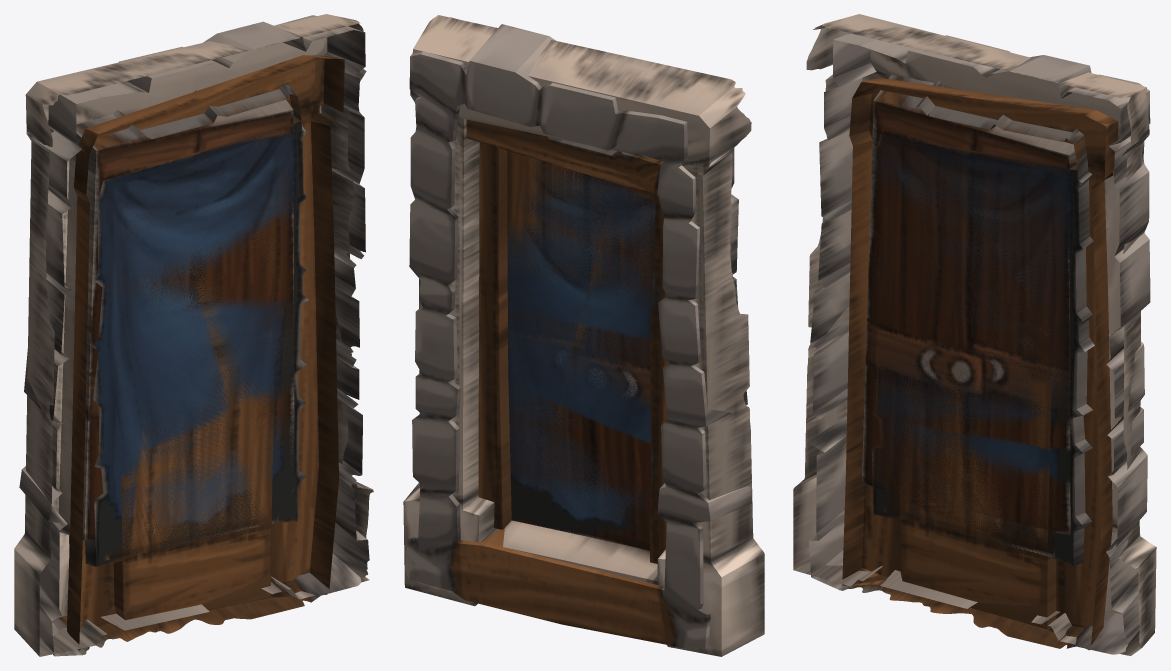
Rendered from Door2.fbx.
3 views of the same model, side by side, from view 1: azimuth 30°, elevation 25°; view 2: azimuth 150°, elevation 25°; view 3: azimuth 330°, elevation 25° (orthographic).
Parts seen in each view (by area): view 1: Door_2, Door_1, Door_Main; view 2: Door_2, Door_Main, Door_1; view 3: Door_Main, Door_2, Door_1.
Boxes of the visible parts, box(x1,y1,x2,y2) form: Door_2: box(19, 15, 369, 656); Door_1: box(67, 55, 344, 650); Door_Main: box(14, 14, 373, 656); Door_2: box(405, 17, 752, 648); Door_Main: box(403, 15, 764, 656); Door_1: box(478, 142, 668, 563); Door_Main: box(793, 14, 1156, 655); Door_2: box(807, 33, 1150, 654); Door_1: box(842, 78, 1118, 650).
Size of the model in its own units: 2.43 by 0.4628 by 3.89.
